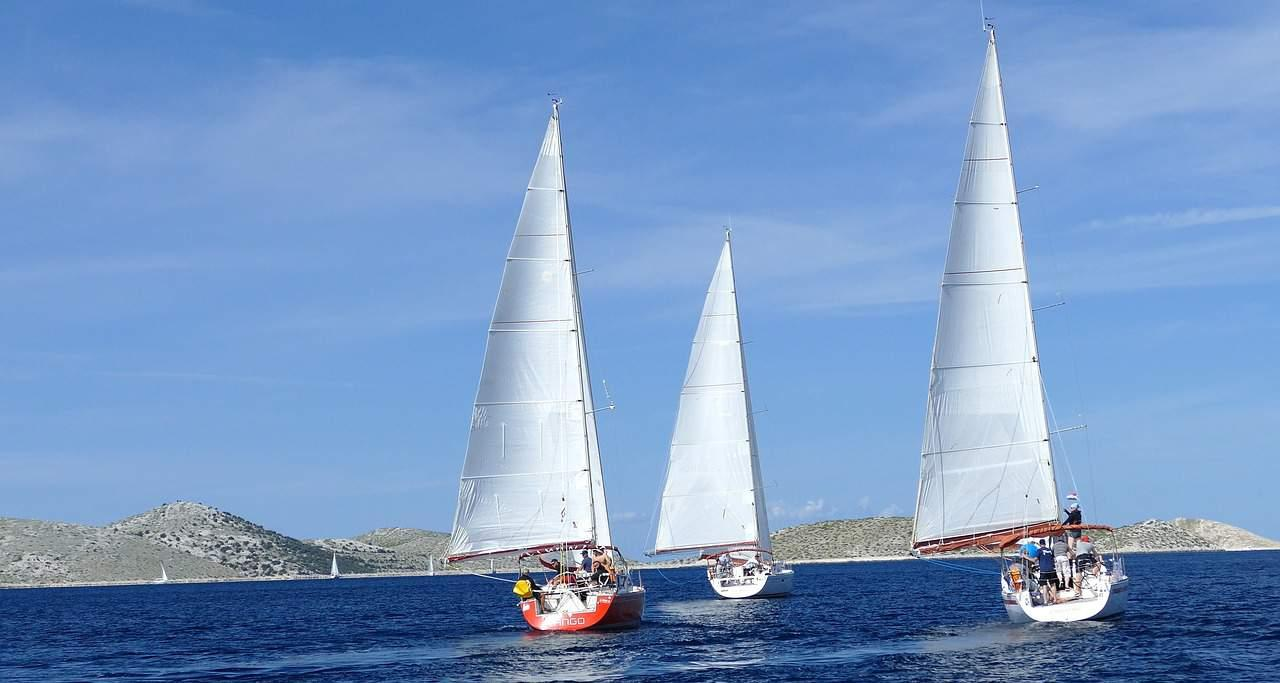Ship: (908, 30, 1127, 624), (445, 98, 645, 636), (649, 226, 797, 601)
